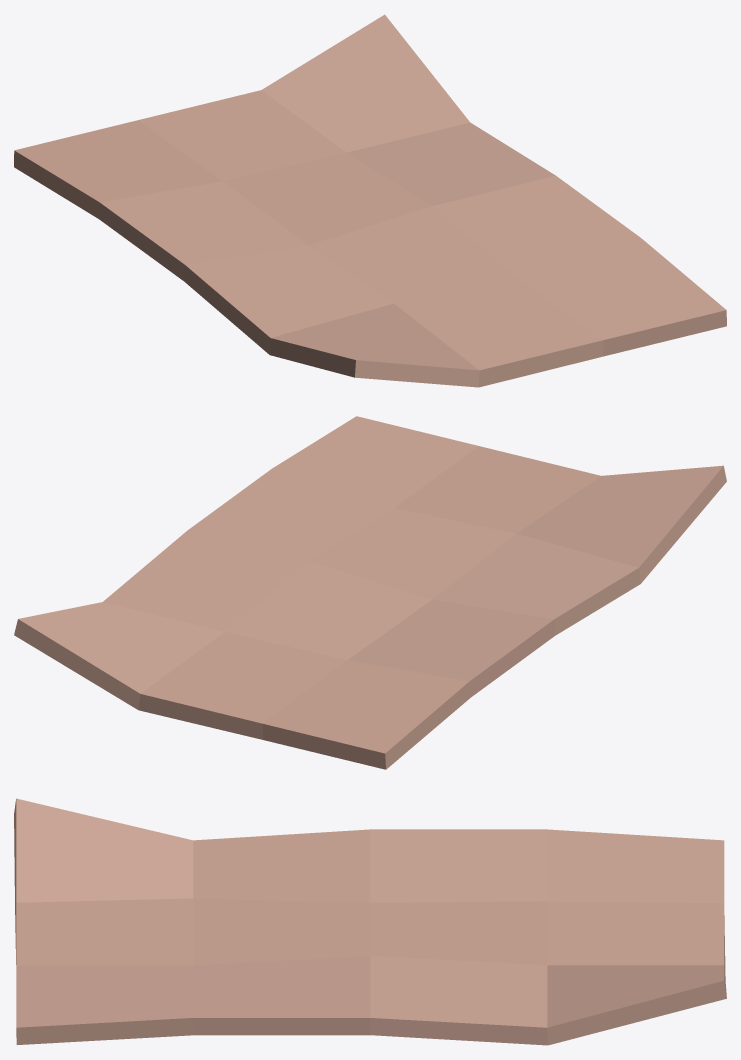
The model's file is paper.glb.
3 views of the same model, one above another, from view 1: azimuth 30°, elevation 25°; view 2: azimuth 150°, elevation 25°; view 3: azimuth 270°, elevation 25° (orthographic). The views are drawn at different scales.
Visible parts, largest first — view 1: Paper; view 2: Paper; view 3: Paper.
Boxes of the visible parts, box(x1,y1,x2,y2) form: Paper: box(14, 14, 726, 387); Paper: box(14, 416, 726, 769); Paper: box(14, 798, 726, 1045).
Size of the model in its own units: 0.1187 by 0.0187 by 0.1884.
Materials: 1 (1 with a texture image).
